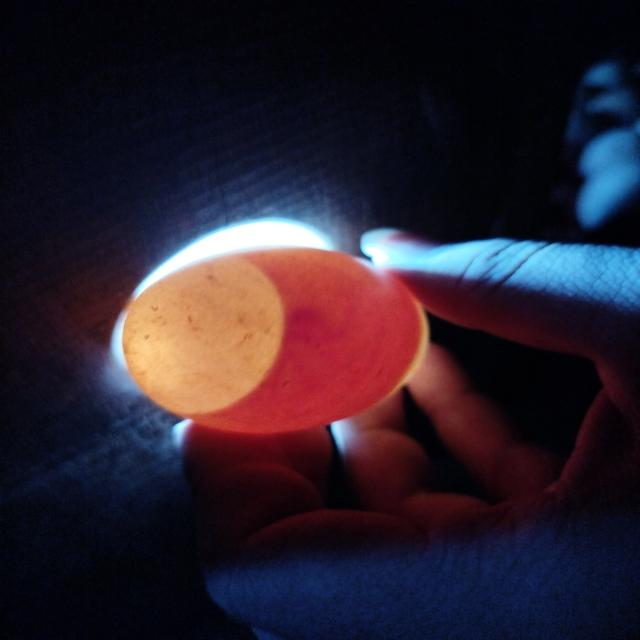Camara de Ar: (123, 255, 282, 414)
